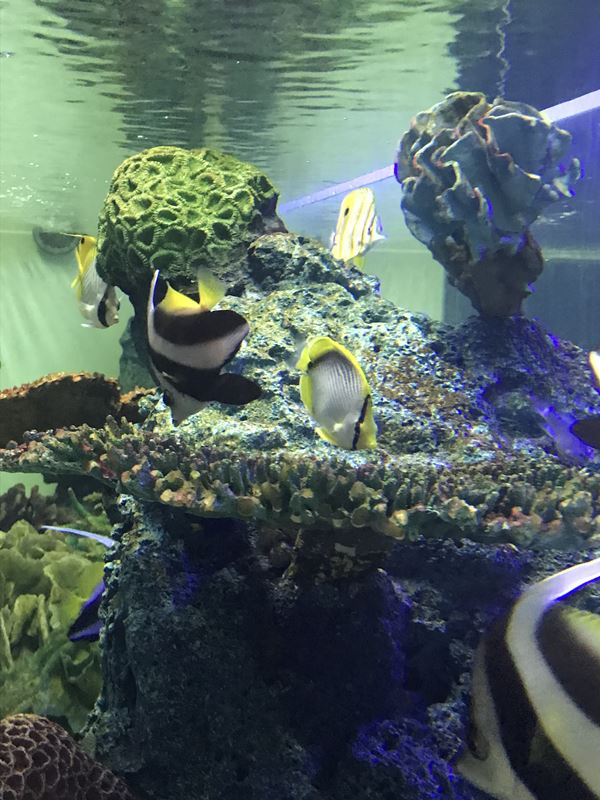Black-backed butterflyfish: (274, 325, 391, 459)
